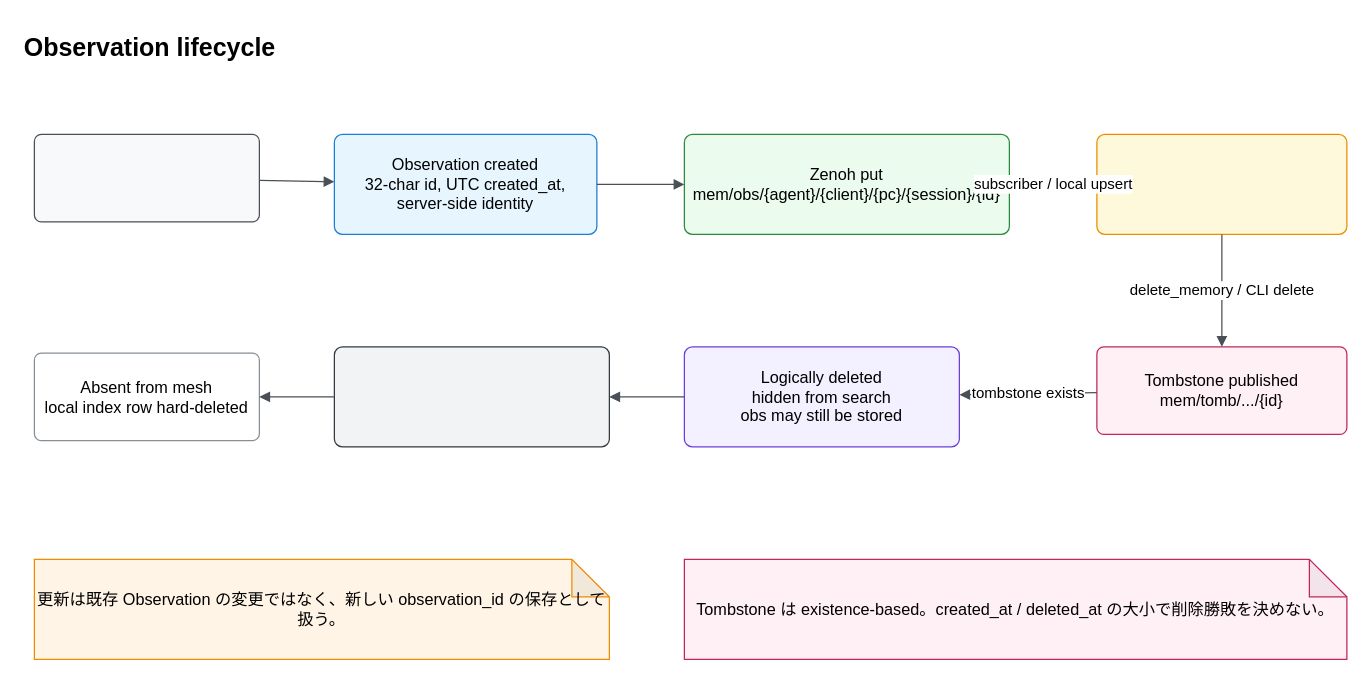
This 1369x681 diagram has some shape labels left out. The box of each missing label's shape, as (x1, y1, x2, y2) in pixels:
Draft / input CLI or MCP tool arguments: (33, 133, 259, 222)
Physical purge gc retention or --force-id obs + tomb exact-key delete: (333, 346, 609, 447)
Visible in search SQLite index row exists deleted_at is NULL: (1096, 133, 1347, 234)
